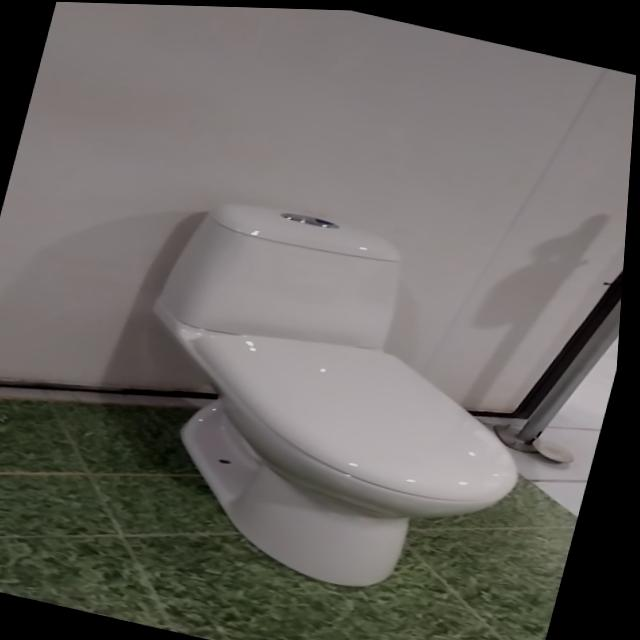toilet: (96, 183, 580, 617)
